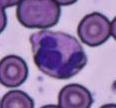N: (34, 31, 88, 78)
